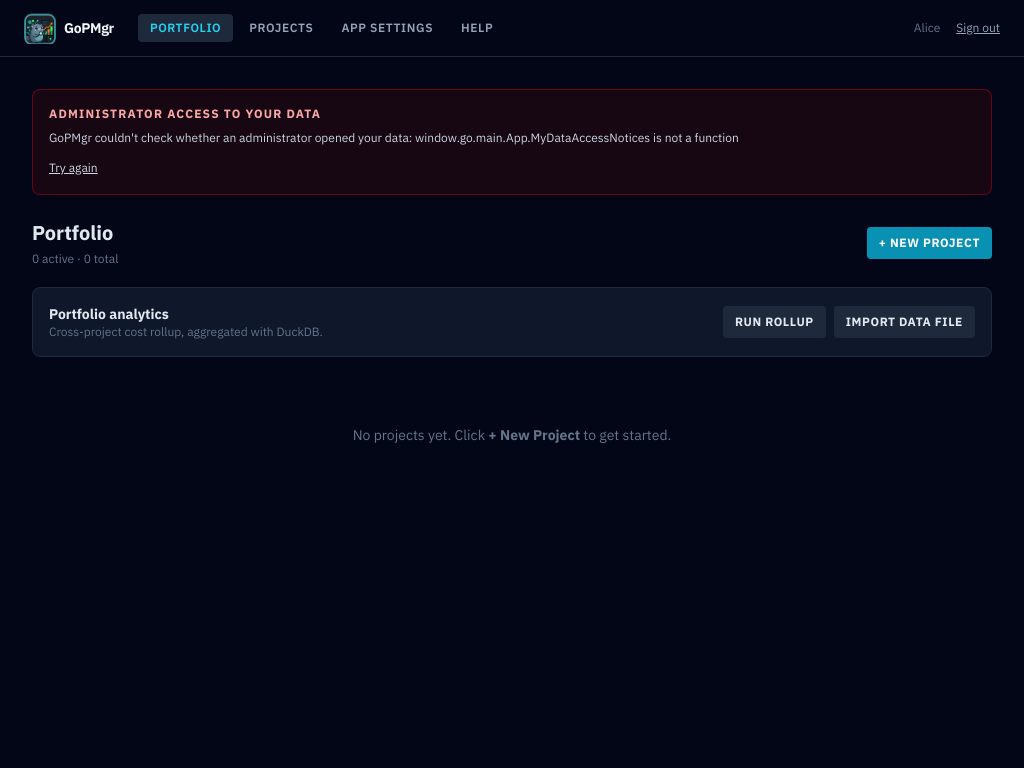
Test: Portfolio › renders exact portfolio money strings without JavaScript arithmetic
Click the button "Run rollup".
click(774, 322)  # box [723,306,826,338]
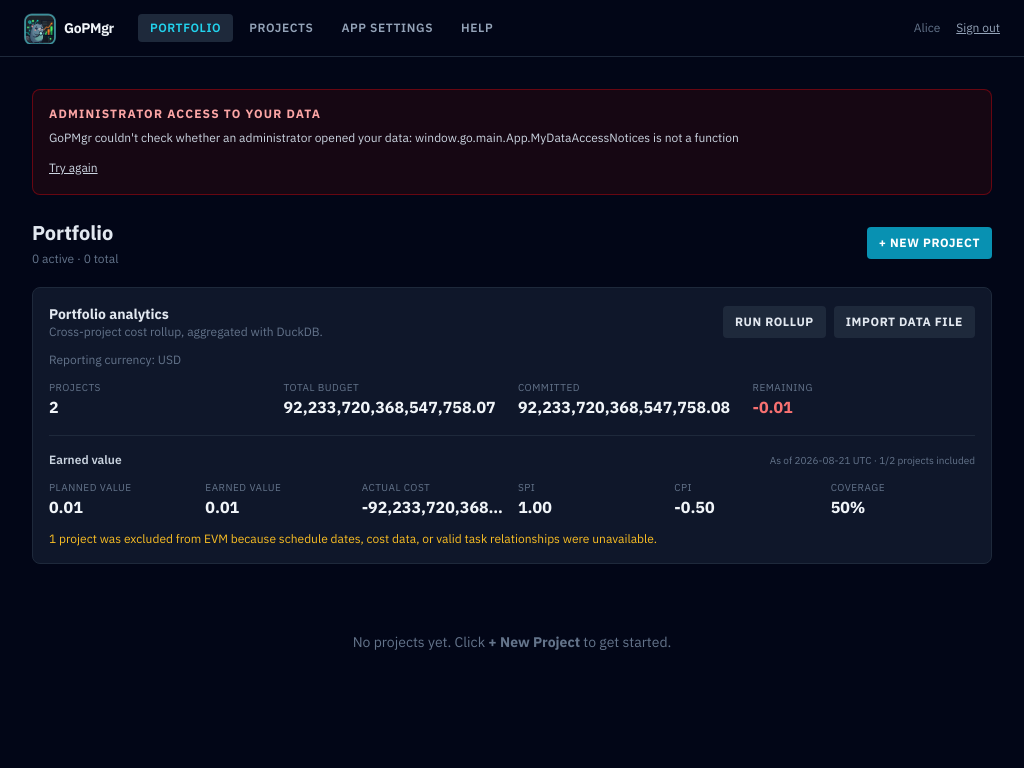
Result: the text "92,233,720,368,547,758.07" is shown at [284,395,506,419]
Result: the text "92,233,720,368,547,758.08" is shown at [518,395,740,419]
Result: the text "-0.01" is shown at [752,397,793,417]
